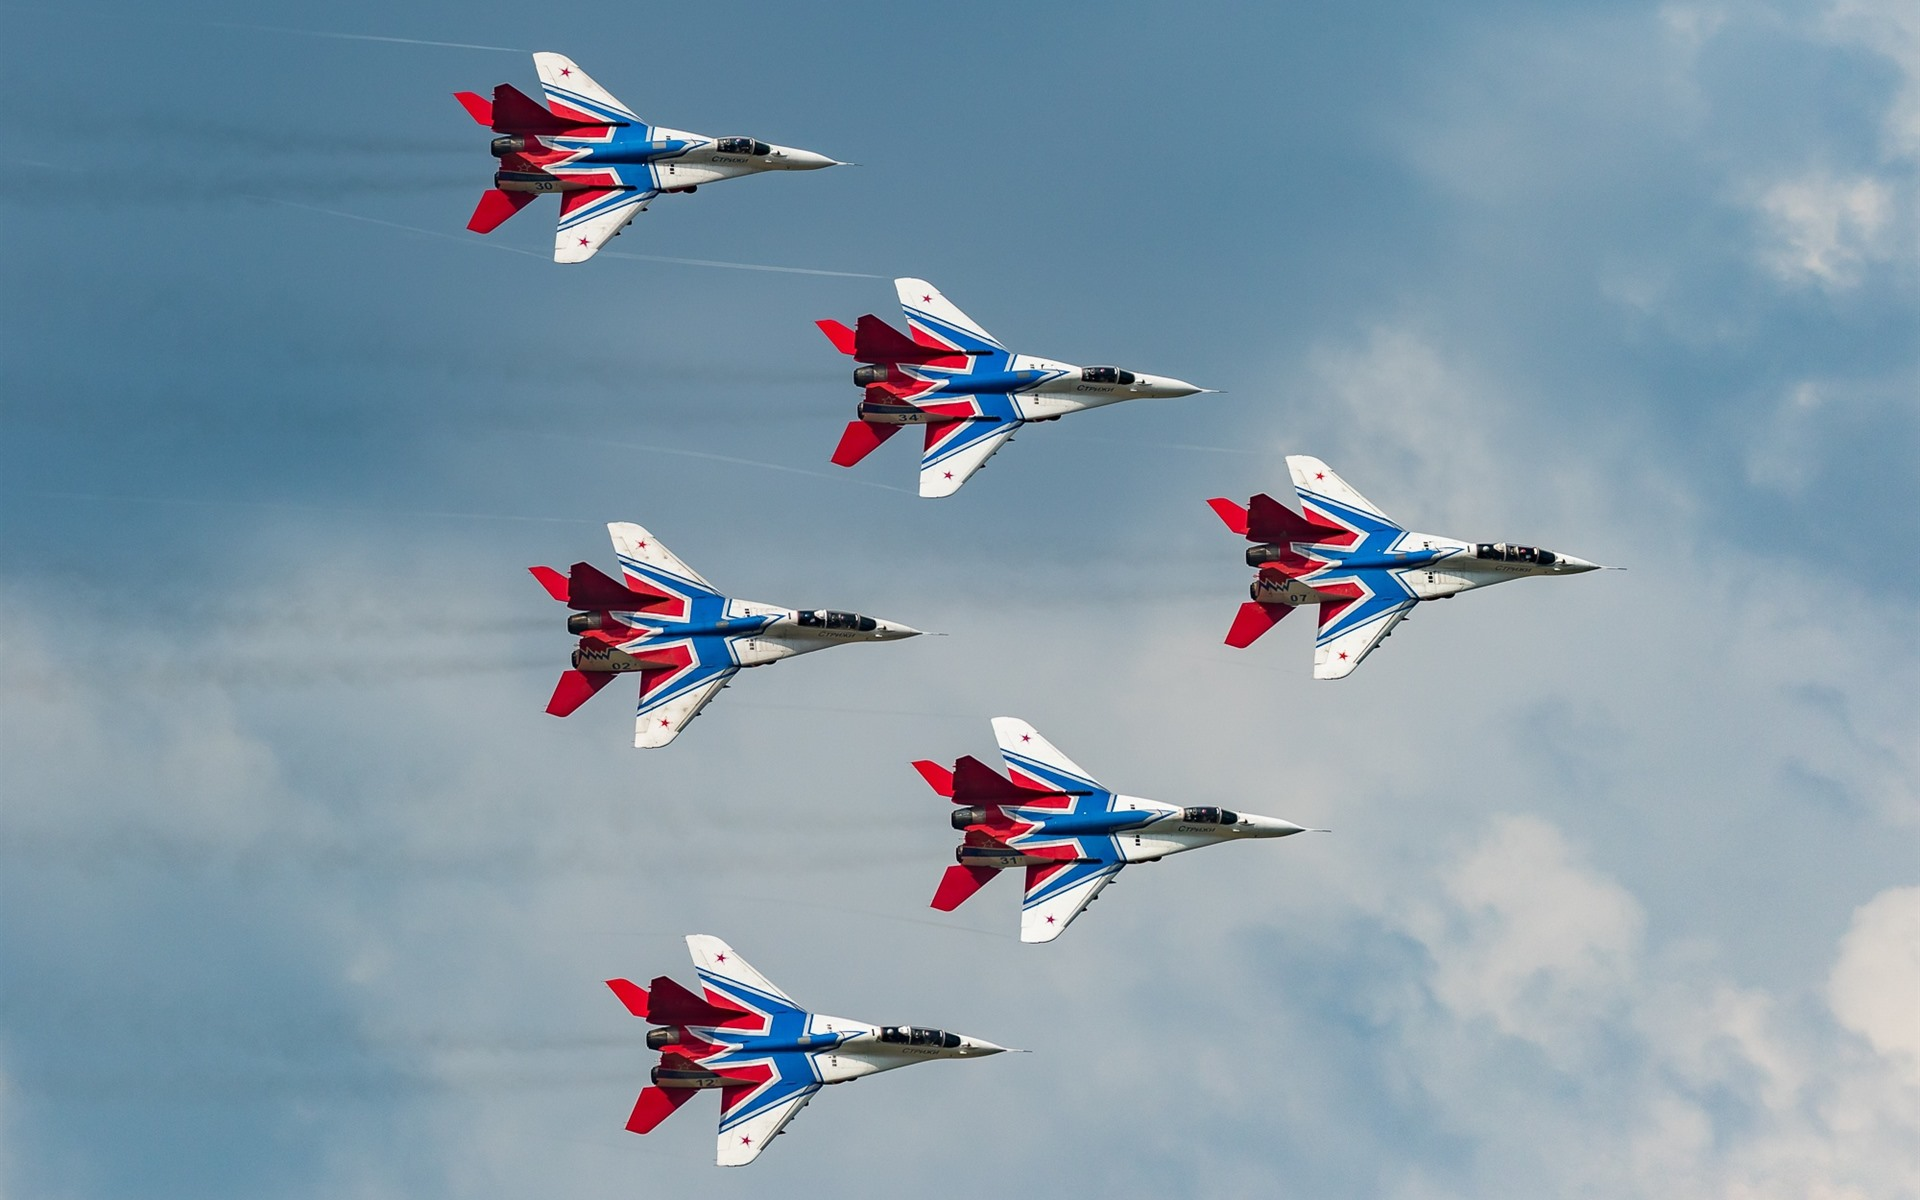Mig-29: (854, 693, 1362, 983), (563, 910, 1049, 1188), (1187, 433, 1656, 676), (424, 37, 874, 263), (523, 513, 939, 733), (806, 263, 1214, 484)
